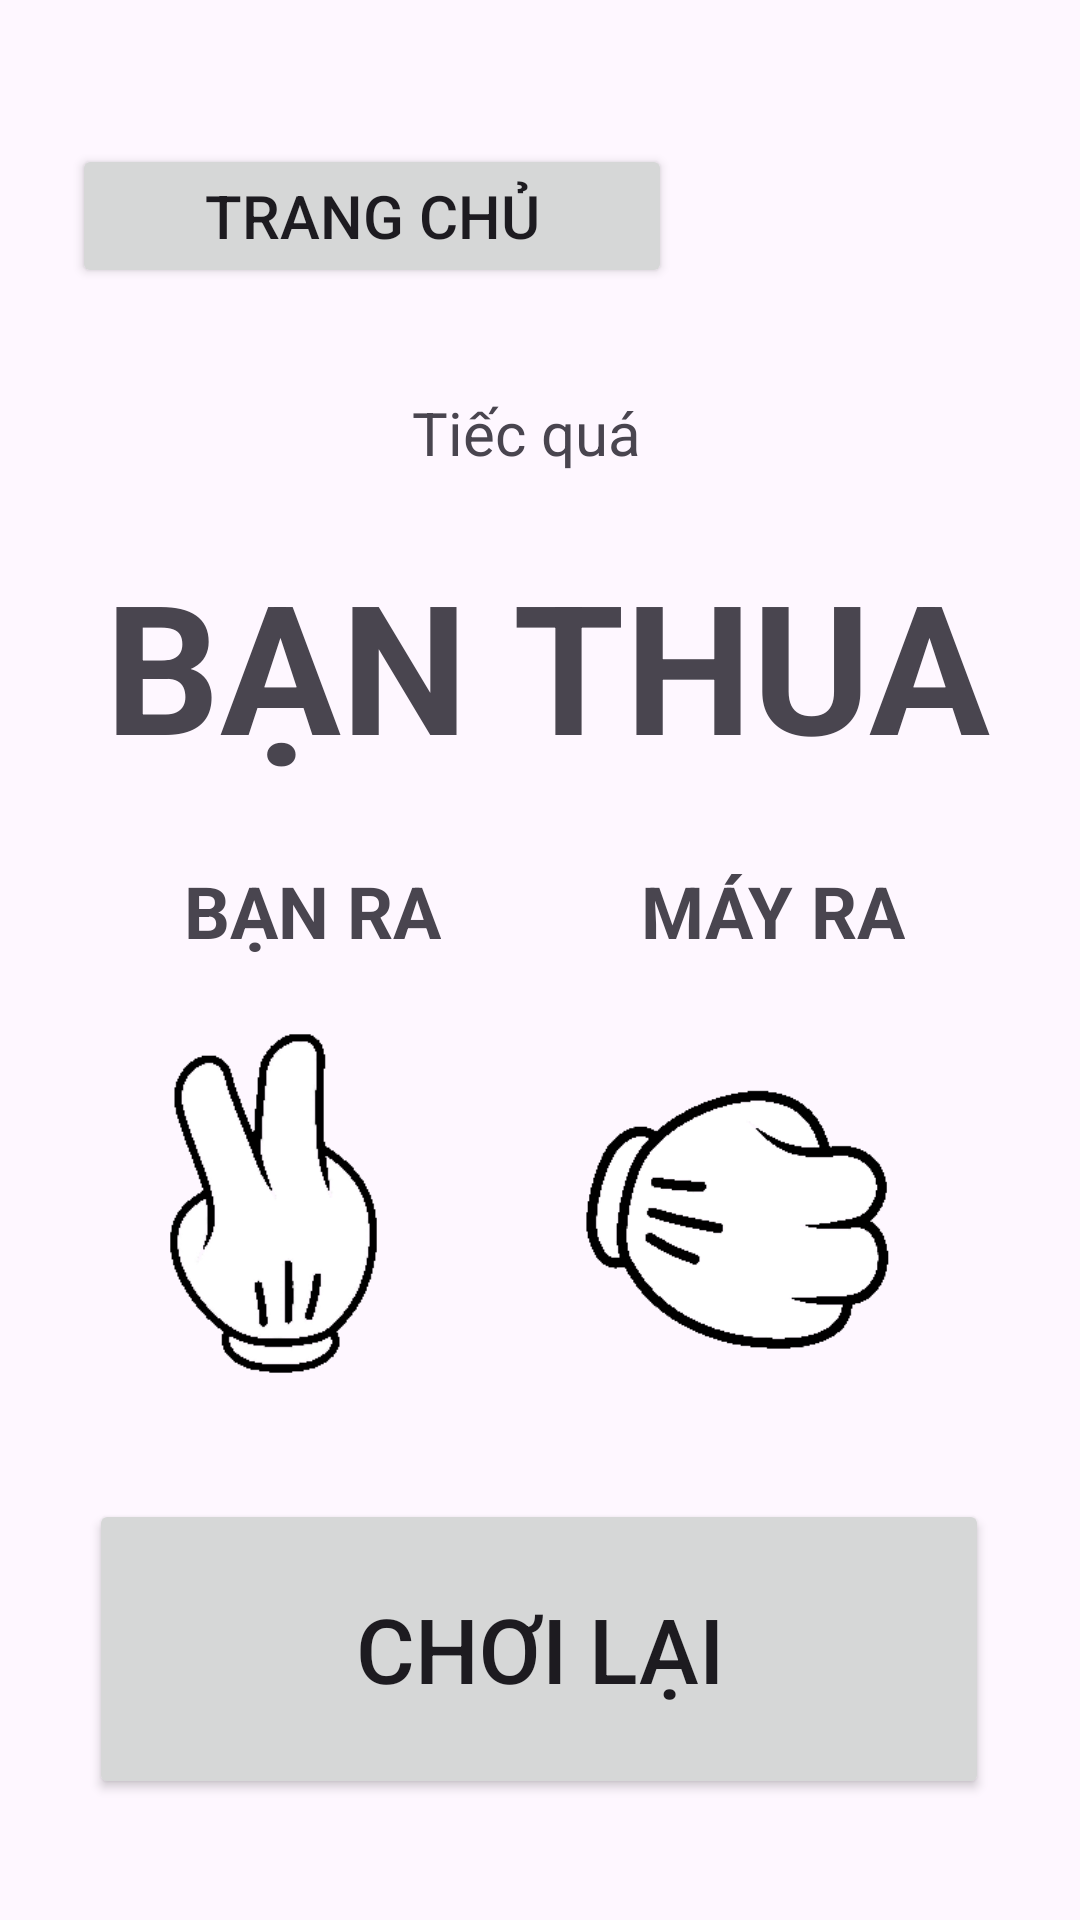

Named icons in this screenshot (1080*1920) and their centers, [x,y]:
bua: [737,1219]
keo: [273,1203]
